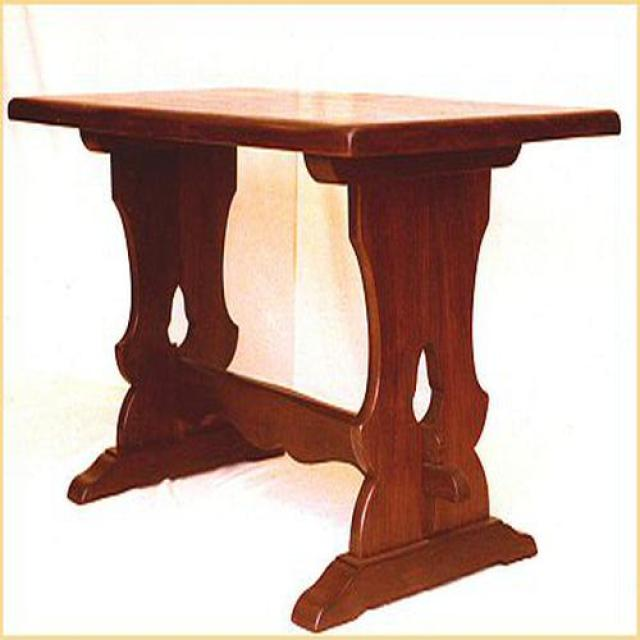table: (6, 6, 636, 634)
